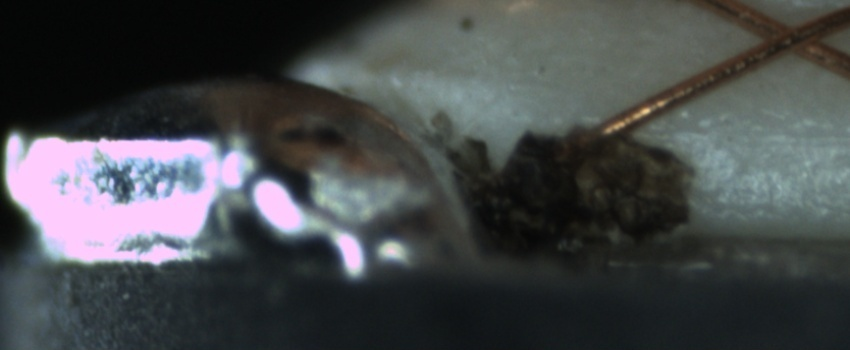CL: (743, 5, 840, 64)
DL: (672, 105, 850, 167)
